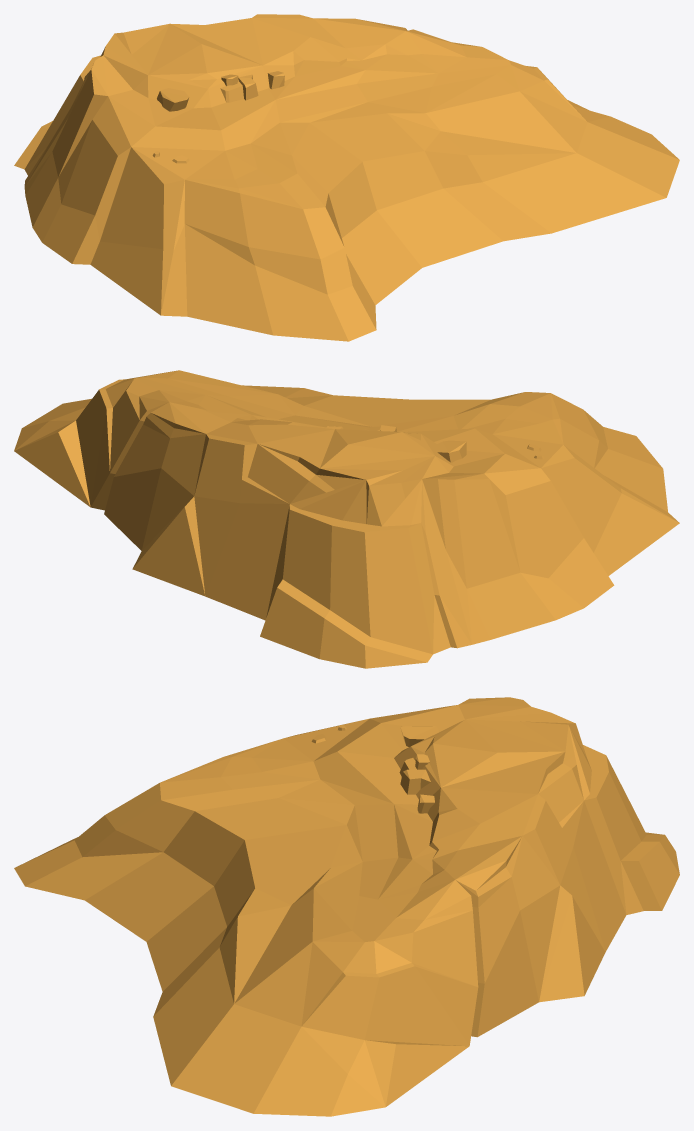
Rendered from island-small.fbx.
3 views of the same model, one above another, from view 1: azimuth 30°, elevation 25°; view 2: azimuth 150°, elevation 25°; view 3: azimuth 270°, elevation 25° (orthographic). The views are drawn at different scales.
Parts seen in each view (by area): view 1: island-small; view 2: island-small; view 3: island-small.
Boxes of the visible parts, box(x1,y1,x2,y2) form: island-small: box(14, 14, 679, 341); island-small: box(14, 370, 679, 668); island-small: box(14, 697, 679, 1116).
Bounding box in the file's own units: 113 × 25.11 × 99.2.
